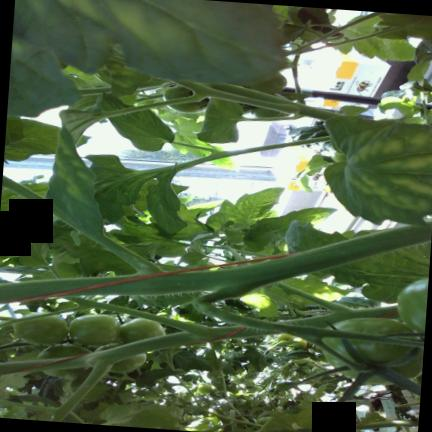6kp_peduncle: (133, 256, 297, 330)
6kp_petiole: (70, 234, 257, 295), (38, 339, 151, 395), (135, 309, 269, 348), (279, 287, 400, 327)
MainStem: (0, 222, 430, 301), (0, 324, 282, 373), (276, 303, 401, 327), (273, 416, 419, 432)
tomato: (322, 317, 422, 384), (37, 342, 89, 376), (12, 312, 67, 343), (397, 277, 428, 331), (69, 313, 119, 344), (95, 342, 146, 371), (162, 85, 207, 112), (119, 317, 165, 342), (245, 72, 286, 93), (250, 106, 288, 117), (291, 336, 306, 348), (197, 382, 212, 393), (276, 332, 295, 340), (256, 415, 269, 423)
